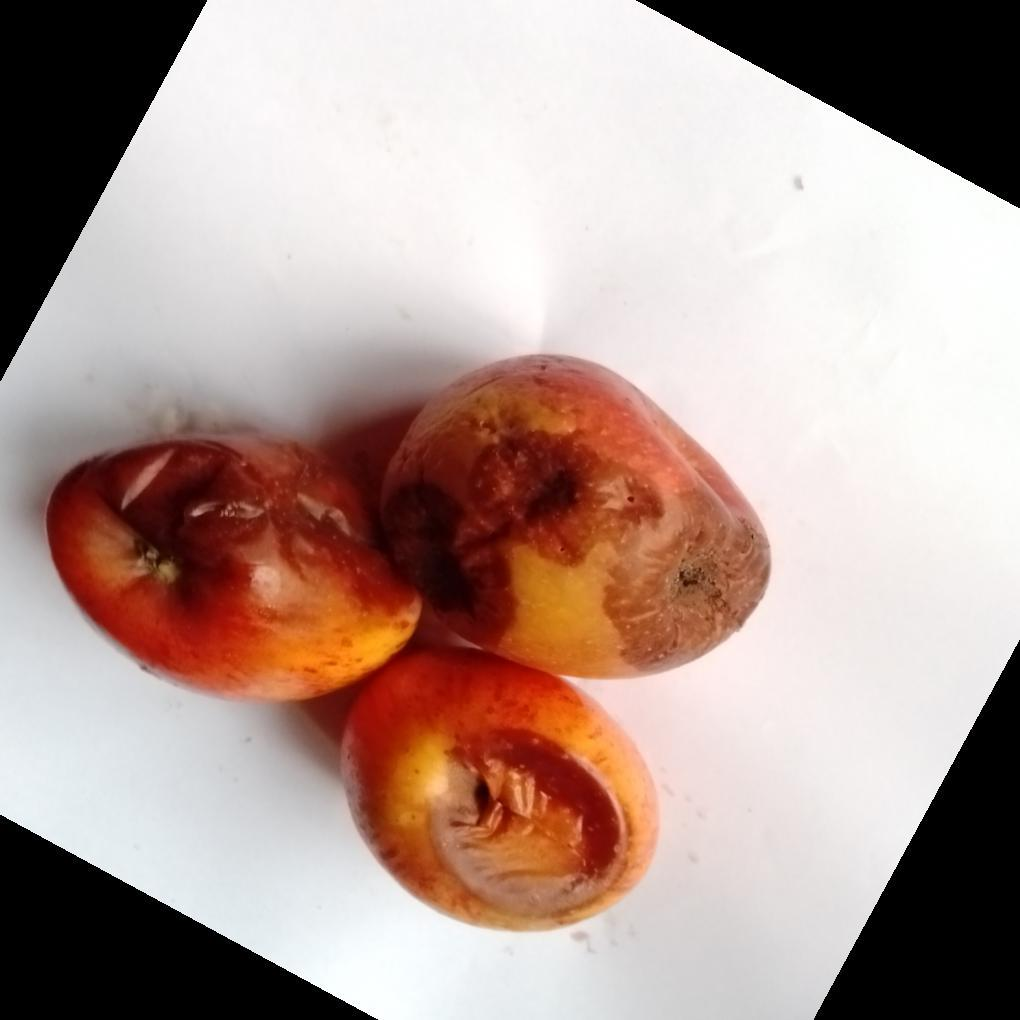FreshOrange: (72, 355, 772, 908)
